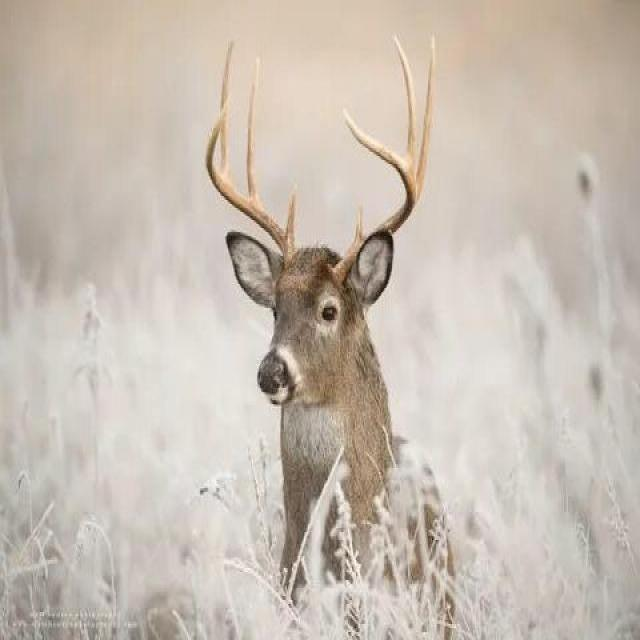deer: (171, 114, 480, 601)
